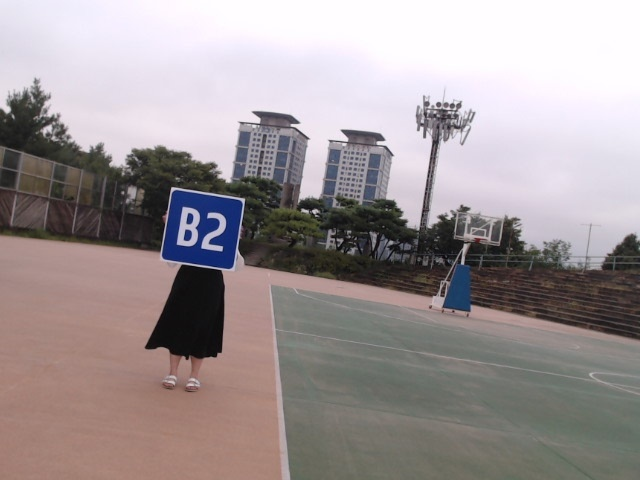delivery_b2: (161, 188, 244, 270)
